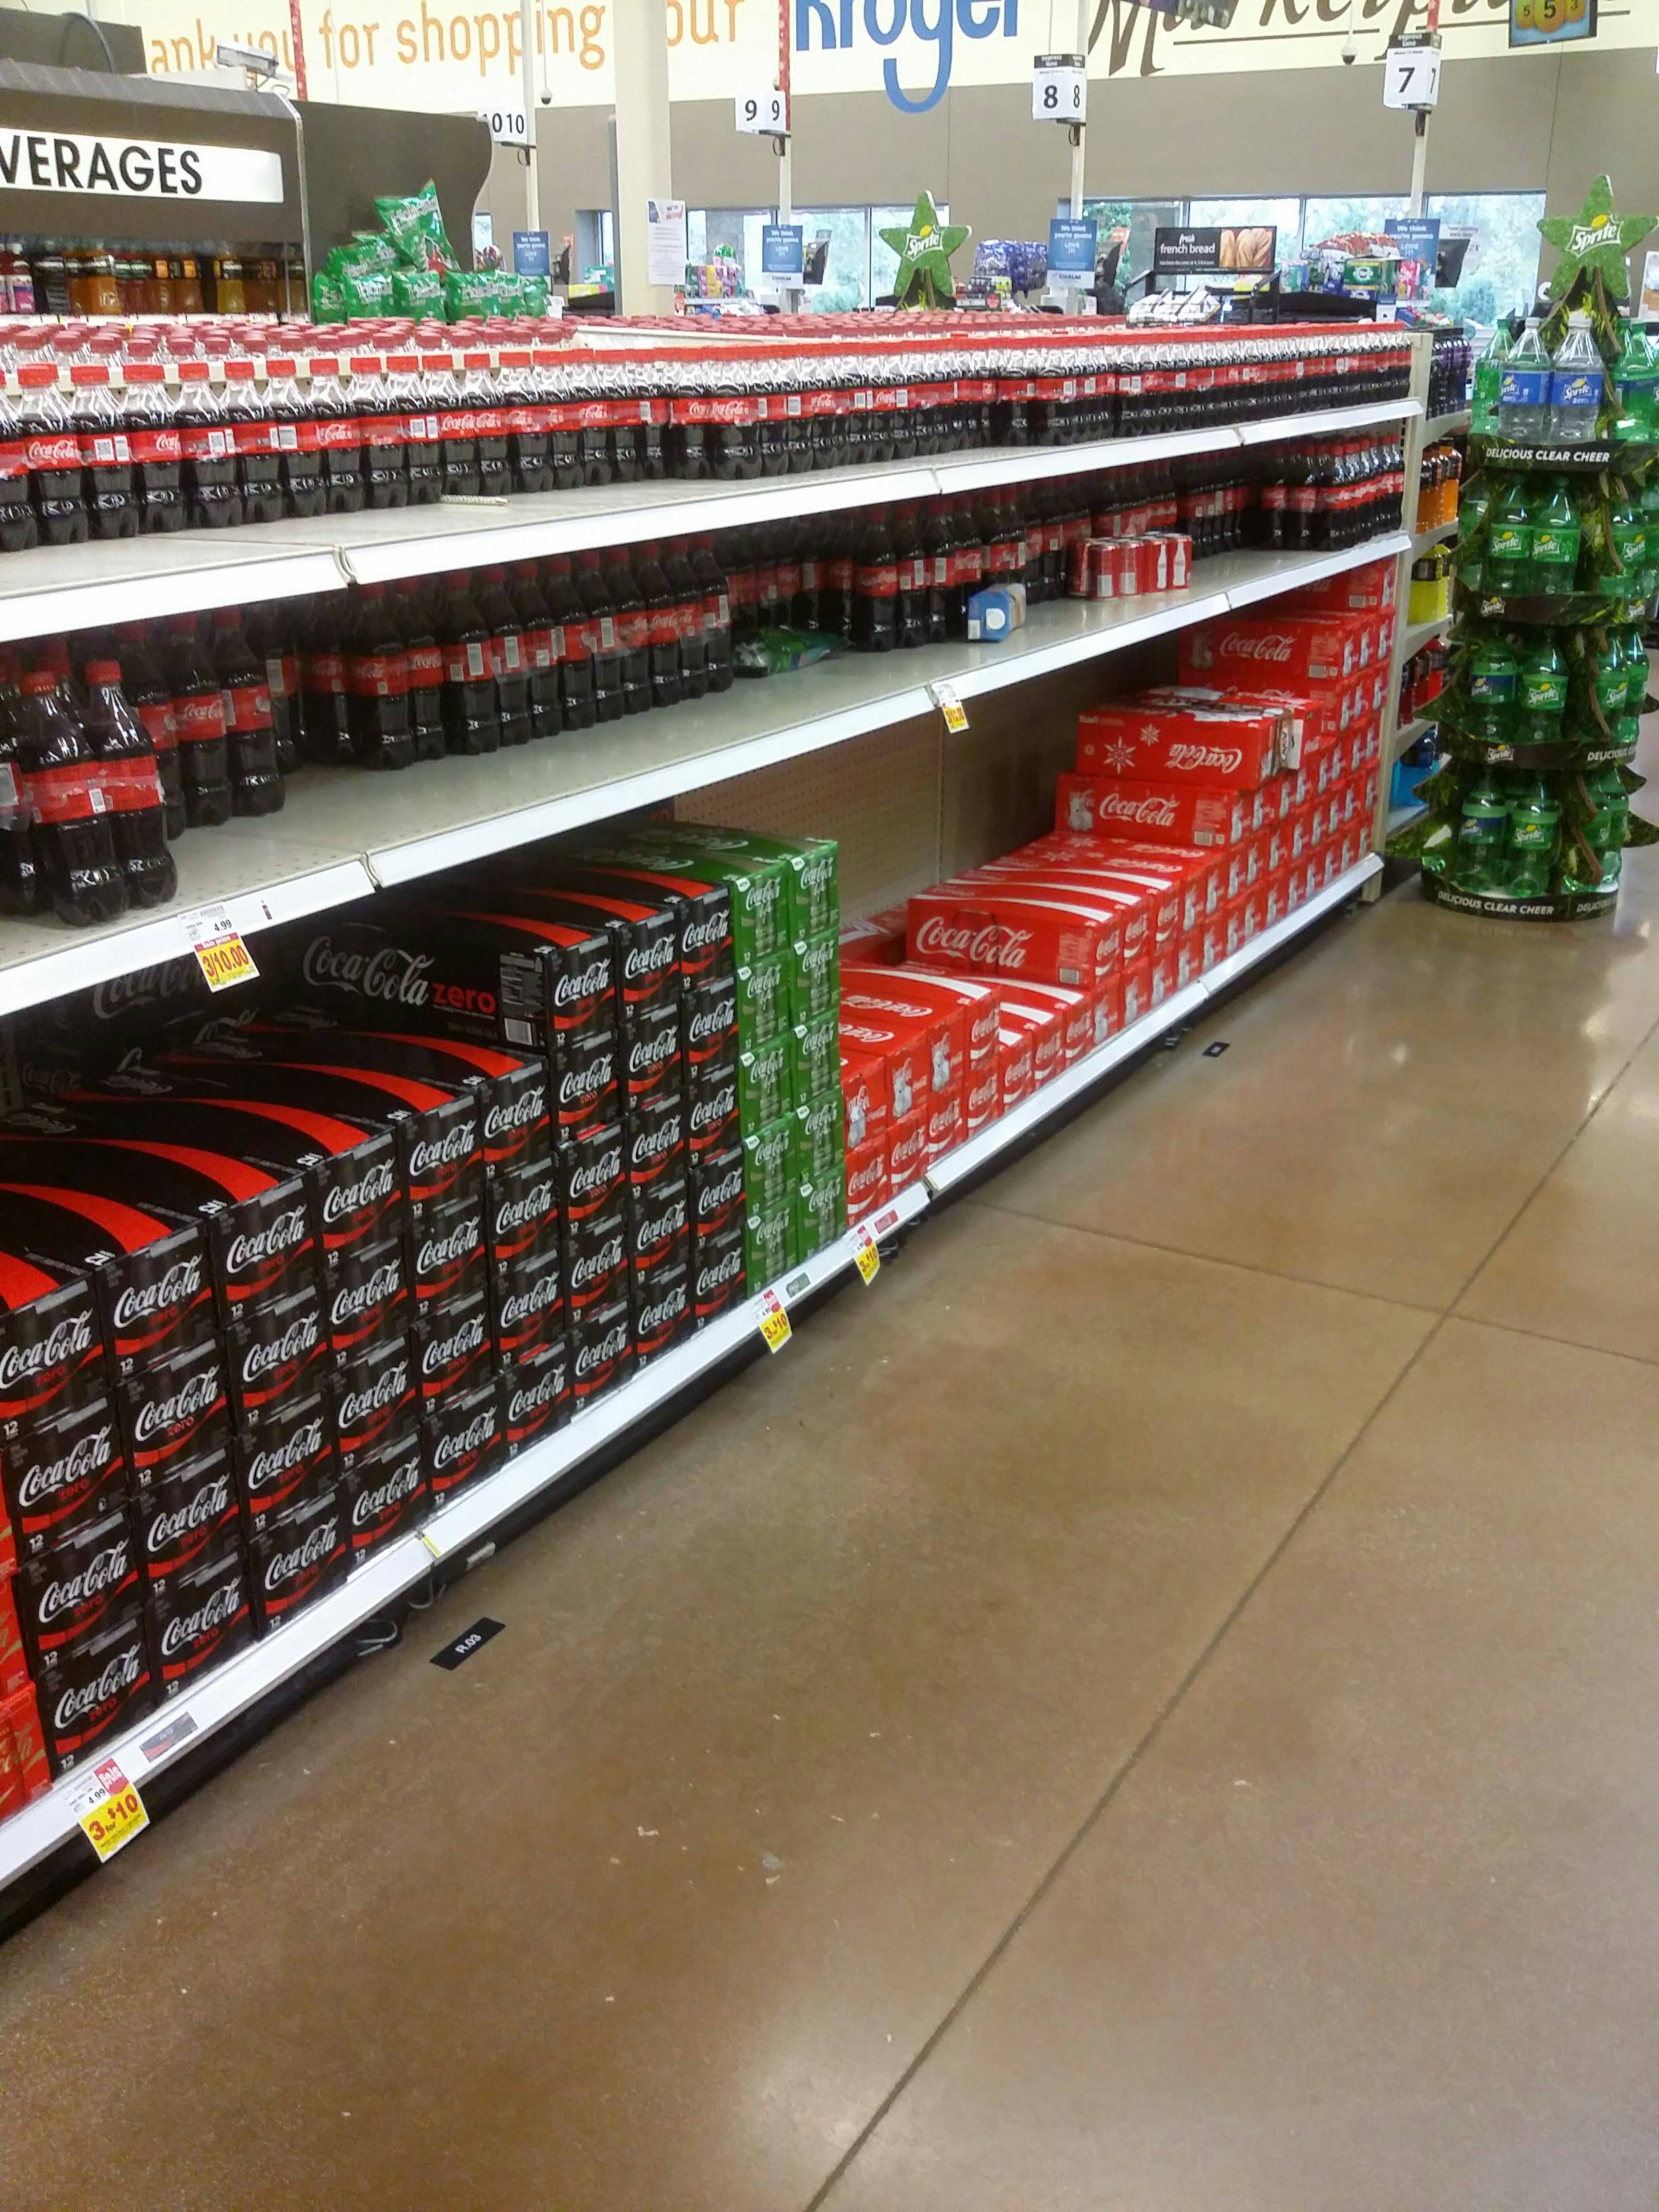Misplacement: (2, 296, 739, 608), (375, 561, 739, 862), (749, 348, 1073, 498), (162, 592, 289, 914), (910, 488, 1077, 698), (1182, 456, 1330, 589)
